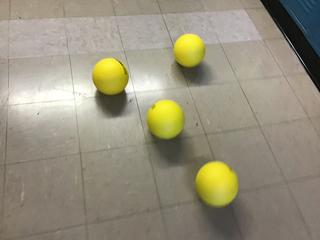power_cell: (192, 159, 241, 208), (146, 97, 185, 142), (91, 57, 132, 98), (172, 32, 208, 71)
